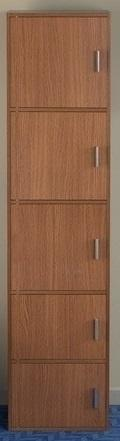cabinet_door: (11, 12, 109, 105), (11, 110, 107, 199), (12, 203, 108, 290), (9, 290, 106, 359), (12, 366, 107, 433)
handle: (91, 236, 101, 263), (93, 47, 101, 77), (90, 317, 99, 343), (91, 383, 99, 411), (92, 144, 98, 172)
